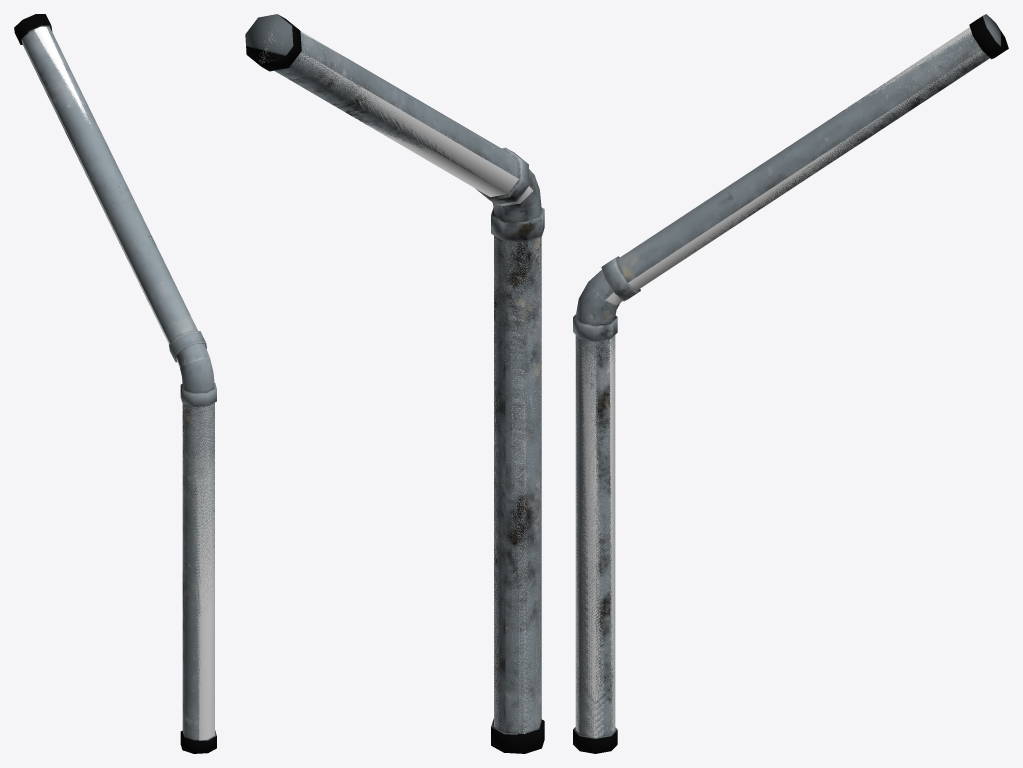
The model's file is objects_un_dlc1_t10pipe01_03.gltf.
3 views of the same model, side by side, from view 1: azimuth 30°, elevation 25°; view 2: azimuth 150°, elevation 25°; view 3: azimuth 270°, elevation 25° (orthographic). The views are drawn at different scales.
Parts seen in each view (by area): view 1: um_objects_un_dlc1_t10pipe01_03_model_lod0Shape:objects_un_d (×2); view 2: um_objects_un_dlc1_t10pipe01_03_model_lod0Shape:objects_un_d (×2); view 3: um_objects_un_dlc1_t10pipe01_03_model_lod0Shape:objects_un_d (×2).
Part boxes in pixels (x1=…): um_objects_un_dlc1_t10pipe01_03_model_lod0Shape:objects_un_d (×2): x1=14, y1=14, x2=216, y2=753; um_objects_un_dlc1_t10pipe01_03_model_lod0Shape:objects_un_d (×2): x1=245, y1=14, x2=544, y2=753; um_objects_un_dlc1_t10pipe01_03_model_lod0Shape:objects_un_d (×2): x1=573, y1=14, x2=1008, y2=753.
Size of what is drawn, in the model's own units: 0.1963 by 3.53 by 1.91.
2 materials, 1 textured.
